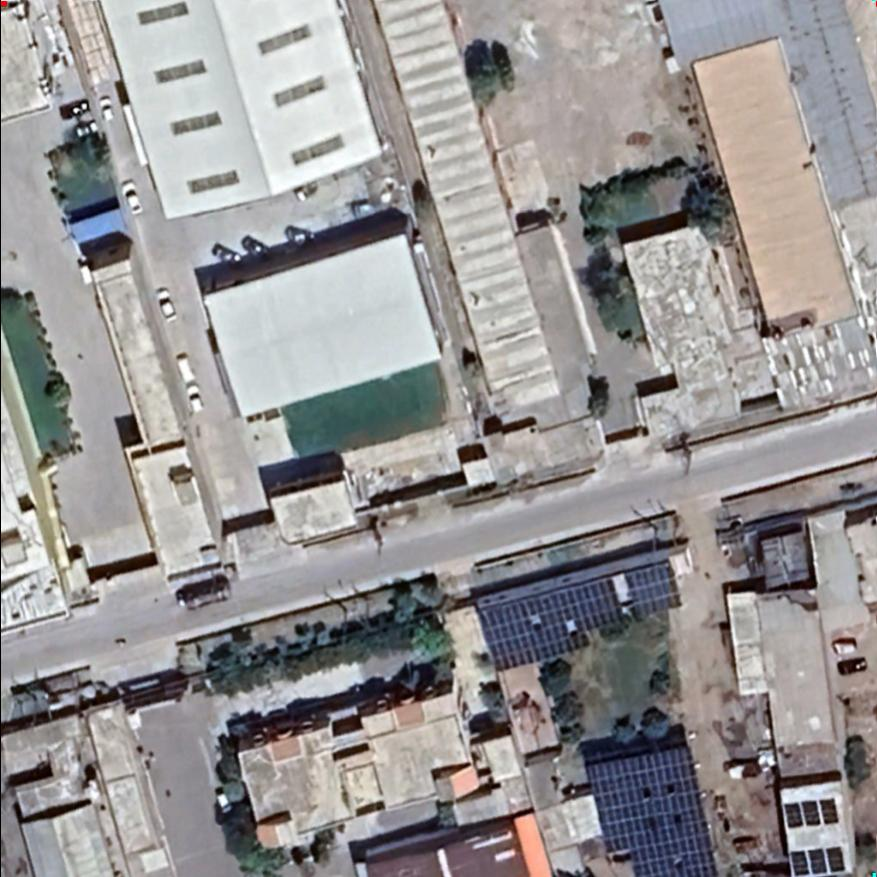Solarpanel: (583, 738, 722, 876), (470, 572, 630, 677), (629, 557, 688, 622), (777, 795, 845, 831), (784, 842, 852, 876)
